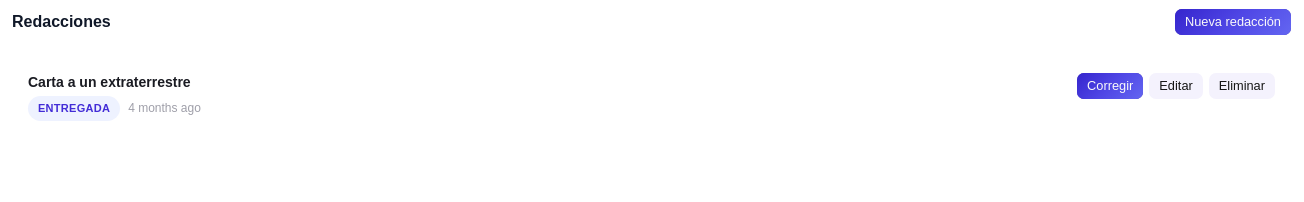
RedaccionesTab › shows generation error when corregir rejects with backend message
What coordinates should you click on to do the following:
click the button with test id "redaccion-corregir-c-ent"
I would click on:
 (1110, 86)
Its box is [1076,72,1144,100].
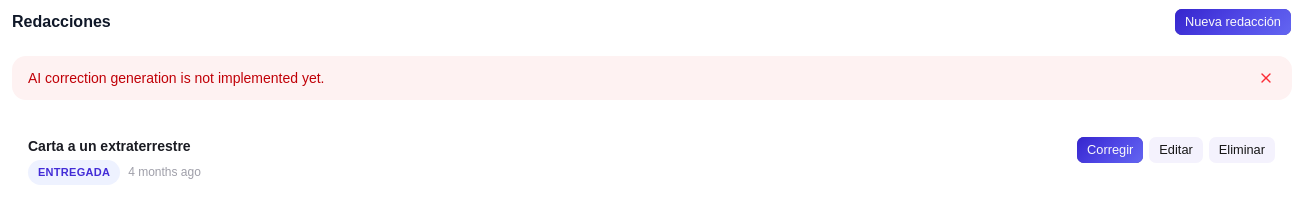
Expected: the message with test id "redacciones-generation-error" reads "AI correction generation is not implemented yet.", [28,70,324,86]
